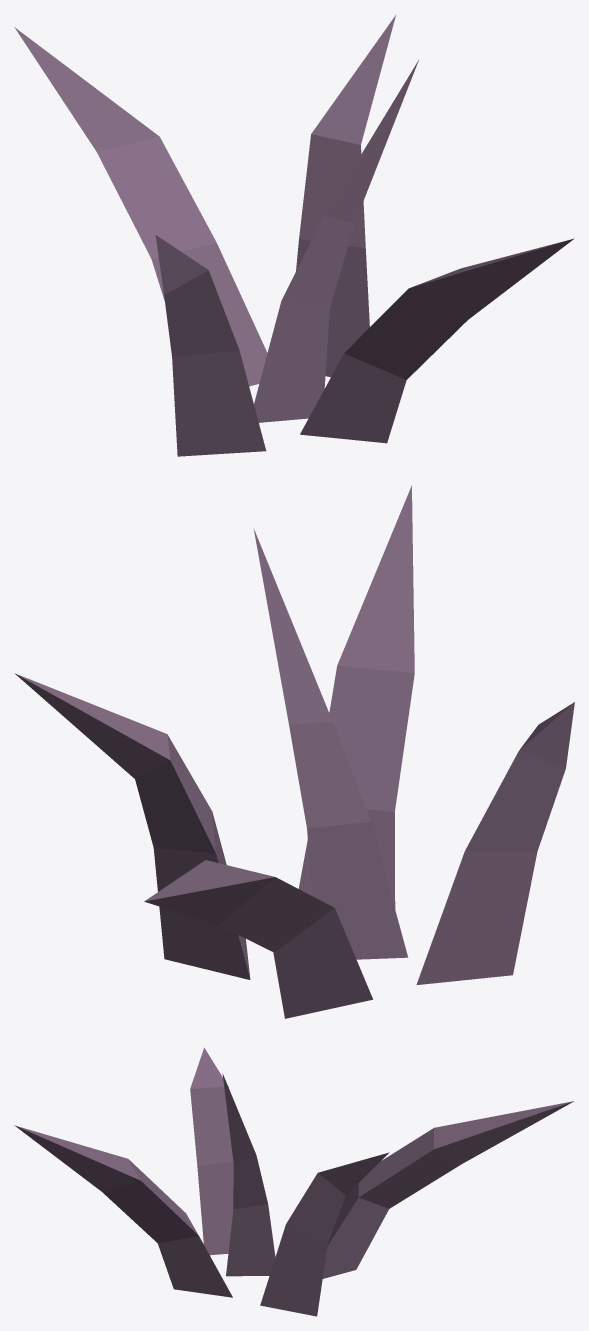
Rendered from grasstuft.gltf.
3 views of the same model, one above another, from view 1: azimuth 30°, elevation 25°; view 2: azimuth 150°, elevation 25°; view 3: azimuth 270°, elevation 25° (orthographic). The views are drawn at different scales.
Visible parts, largest first — view 1: grasstuft; view 2: grasstuft; view 3: grasstuft.
Boxes of the visible parts, <box> form: grasstuft: <box>14,15,574,456</box>; grasstuft: <box>15,485,574,1018</box>; grasstuft: <box>14,1047,574,1316</box>.
Size of the model in its own units: 0.5982 by 0.5249 by 1.11.
